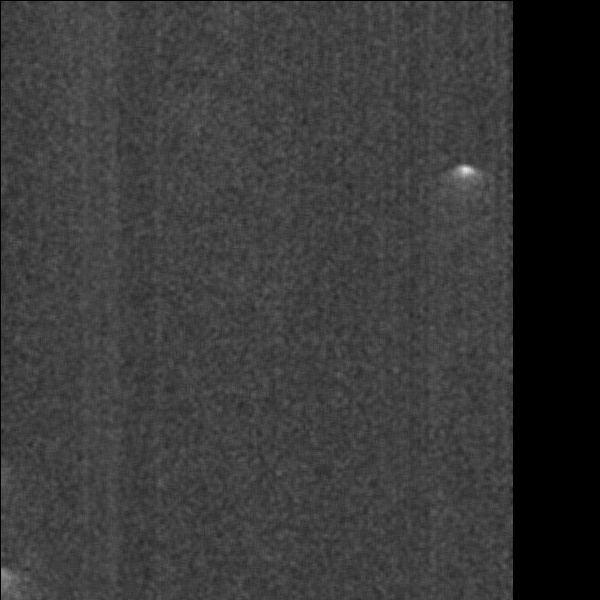spark: (448, 159, 480, 203)
